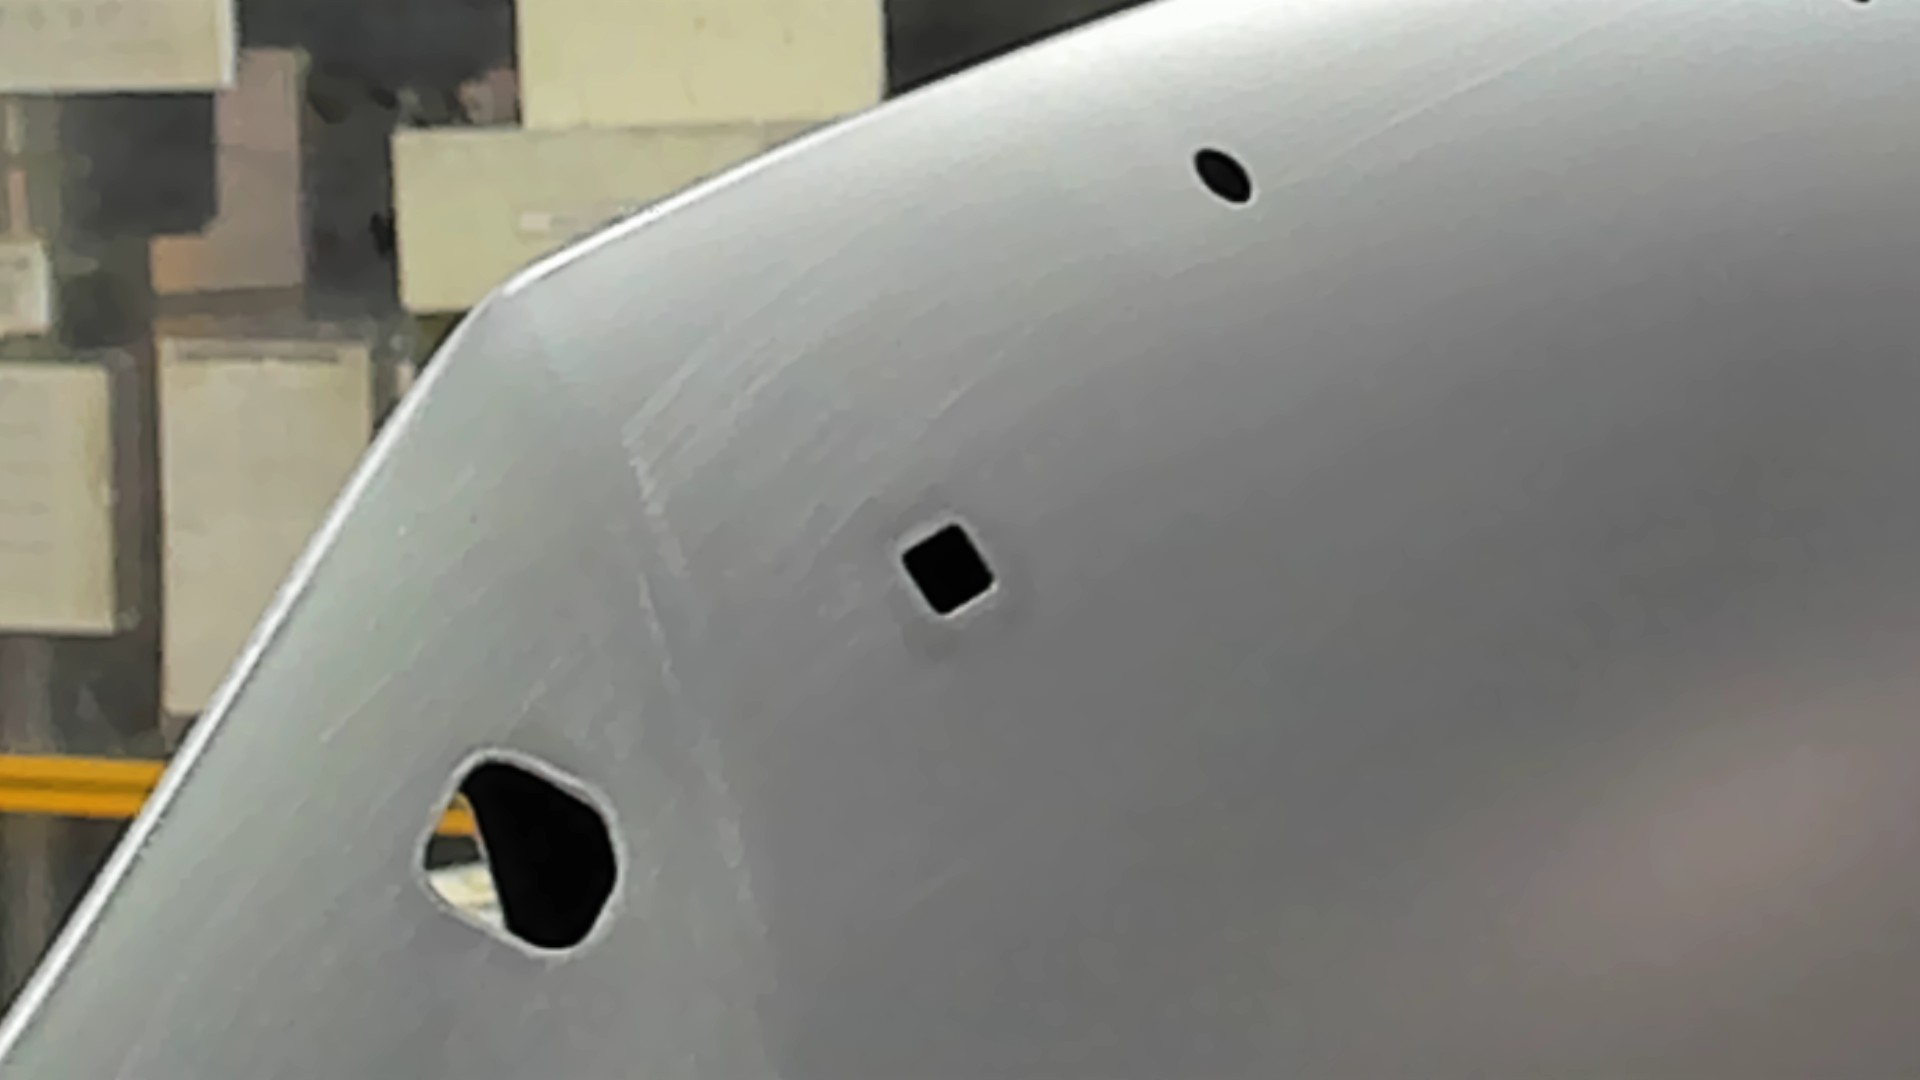chico: (1184, 140, 1259, 208)
grande: (411, 740, 632, 960)
mediano: (893, 517, 1004, 625)
